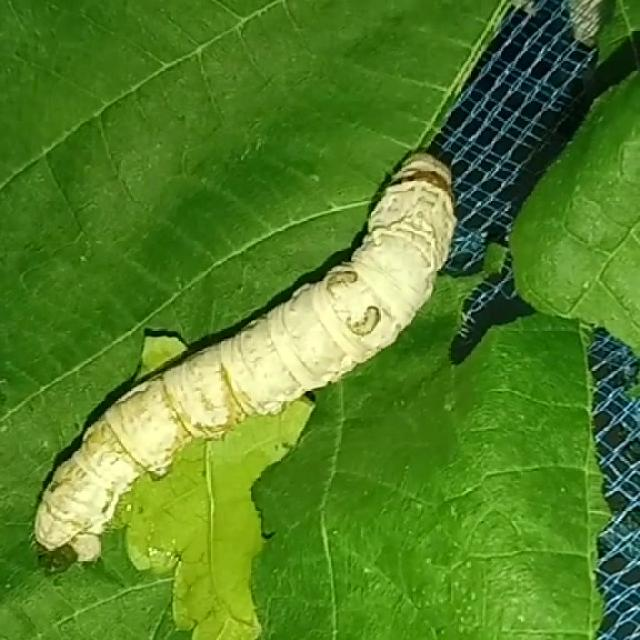Grasserie: (24, 120, 478, 580)
